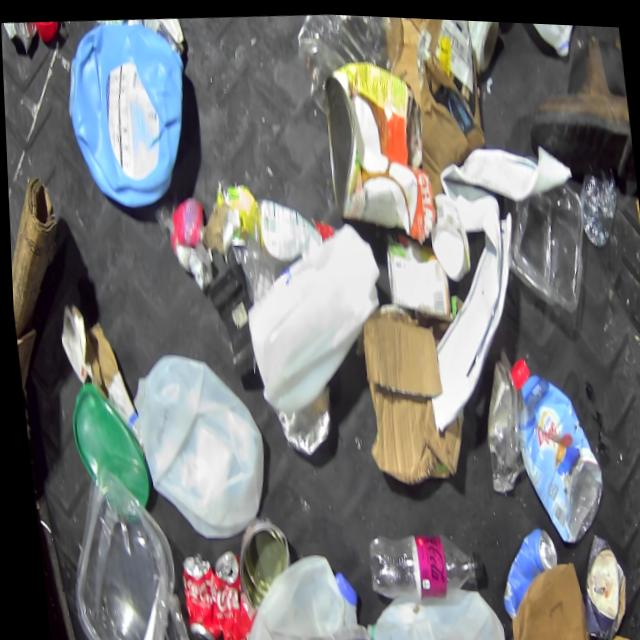can: (316, 54, 430, 240), (490, 520, 559, 618), (379, 227, 450, 319), (227, 509, 289, 610), (269, 377, 333, 457), (174, 548, 216, 640), (207, 544, 245, 640), (2, 20, 37, 53)
milk_jug: (234, 212, 392, 416), (122, 341, 268, 542), (229, 543, 357, 640), (355, 575, 500, 640), (510, 18, 584, 56)
non_white_jug: (57, 14, 196, 212)
plastic_bottle: (293, 10, 410, 113), (361, 522, 480, 601), (574, 161, 620, 241)
